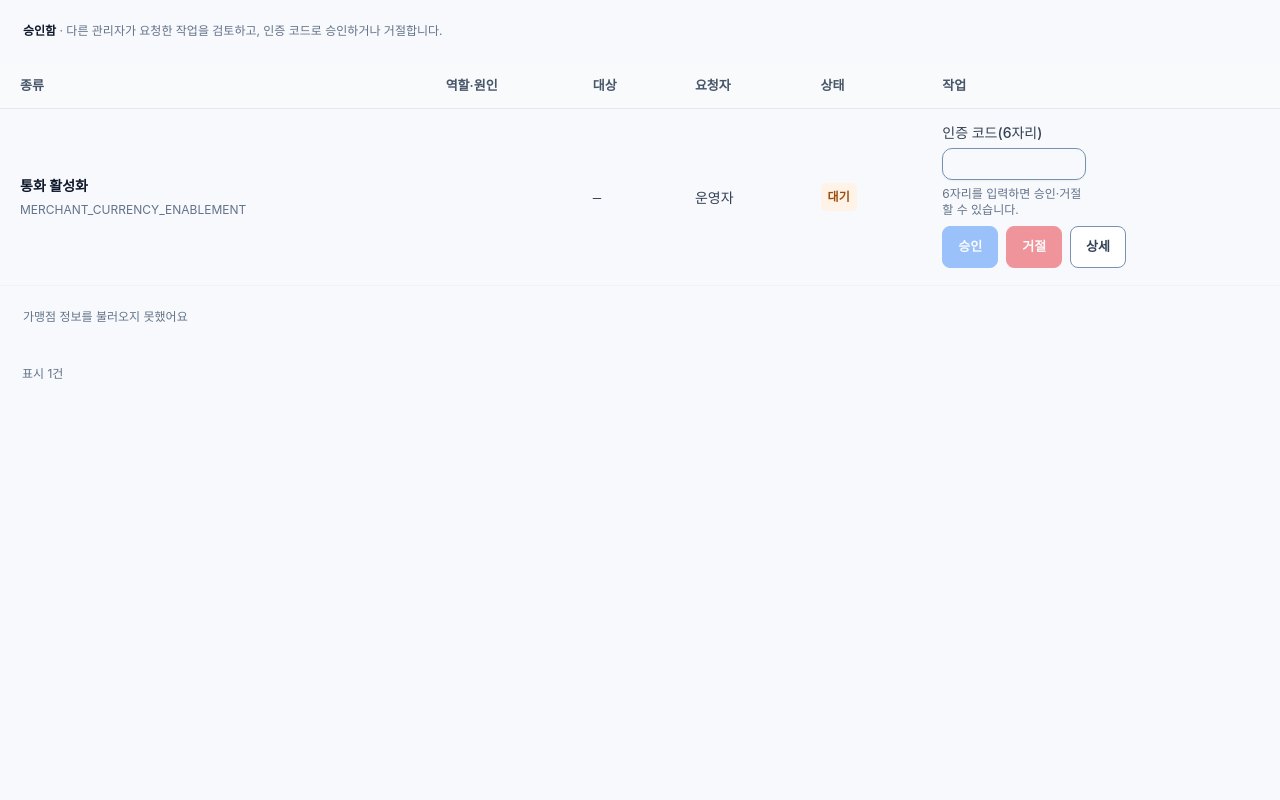
Test: ApprovalsScreen — B3-2 currency enablement (MERCHANT-OPS-002 §8.4 B3-2-6) › "통화 활성화" AT_EXECUTION: the detail says "효력 시작: 승인 실행 즉시(MASTER 실행 시각으로 확정)", MID, KRW, no end; no evidence in the detail
This screenshot has width=1280, height=800.
Check: the text "통화 활성화" is shown, box [20, 177, 88, 194]
Click the button "상세": (1098, 247) [1070, 226, 1126, 268]
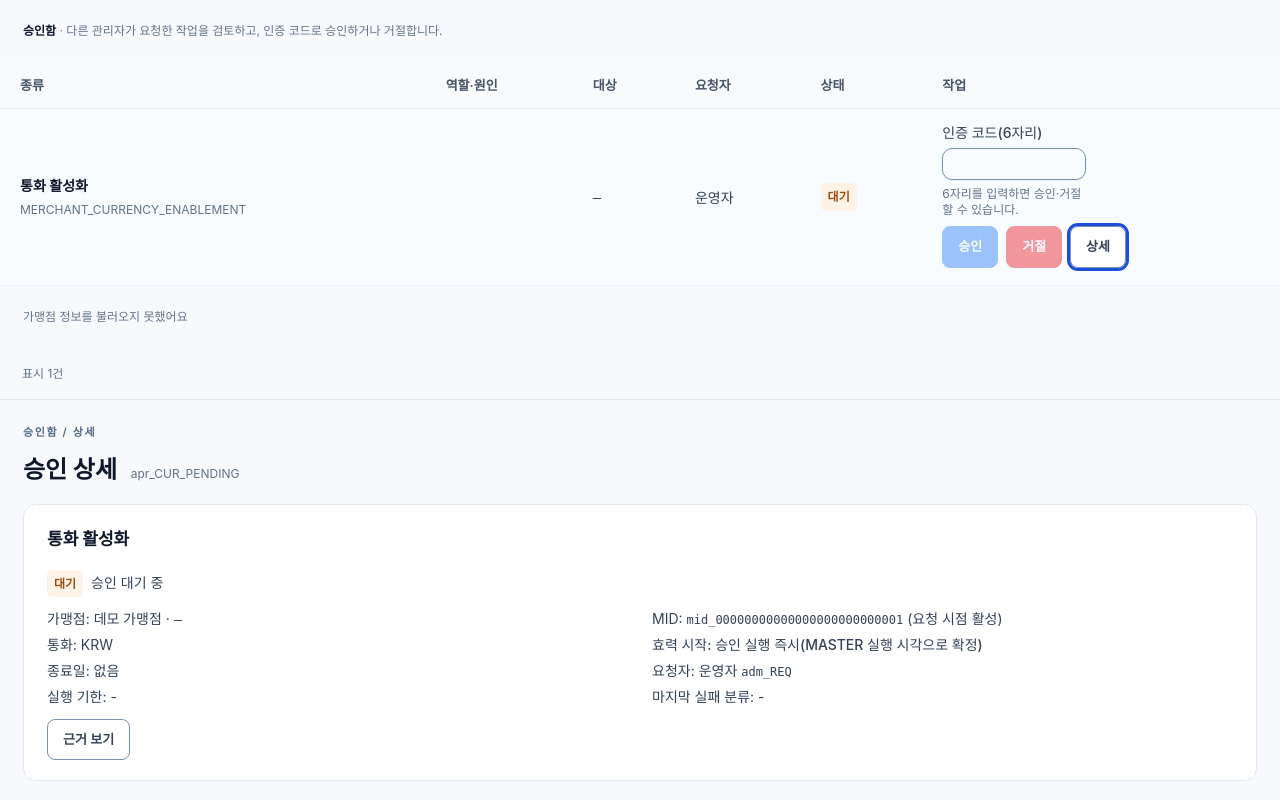
Check: the element named "통화 활성화 승인 상세" shows "효력 시작: 승인 실행 즉시(MASTER 실행 시각으로 확정)", box [652, 636, 983, 653]
Check: the element named "통화 활성화 승인 상세" shows "통화: KRW", box [47, 636, 113, 653]
Check: the element named "통화 활성화 승인 상세" shows "종료일: 없음", box [47, 662, 119, 679]
